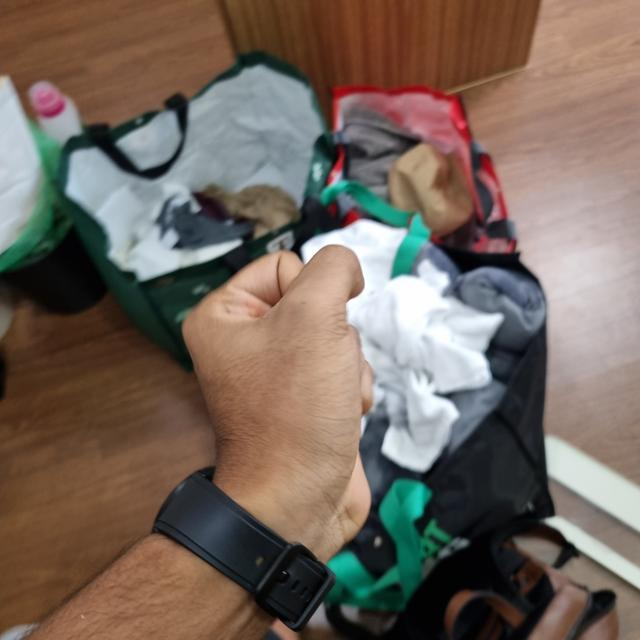Rock: (182, 240, 377, 538)
